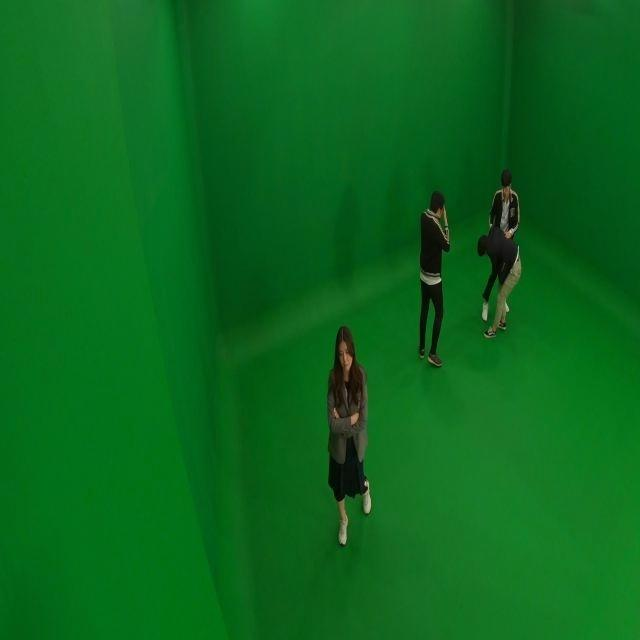fight: (475, 167, 522, 335)
non-fight: (324, 323, 372, 547), (414, 191, 451, 368)
